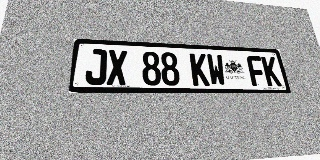8: (160, 52, 180, 86), (142, 51, 161, 85)
F: (246, 56, 267, 86)
J: (85, 49, 107, 85)
K: (189, 53, 210, 86), (261, 56, 282, 86)
W: (206, 54, 227, 86)
X: (107, 50, 127, 85)
